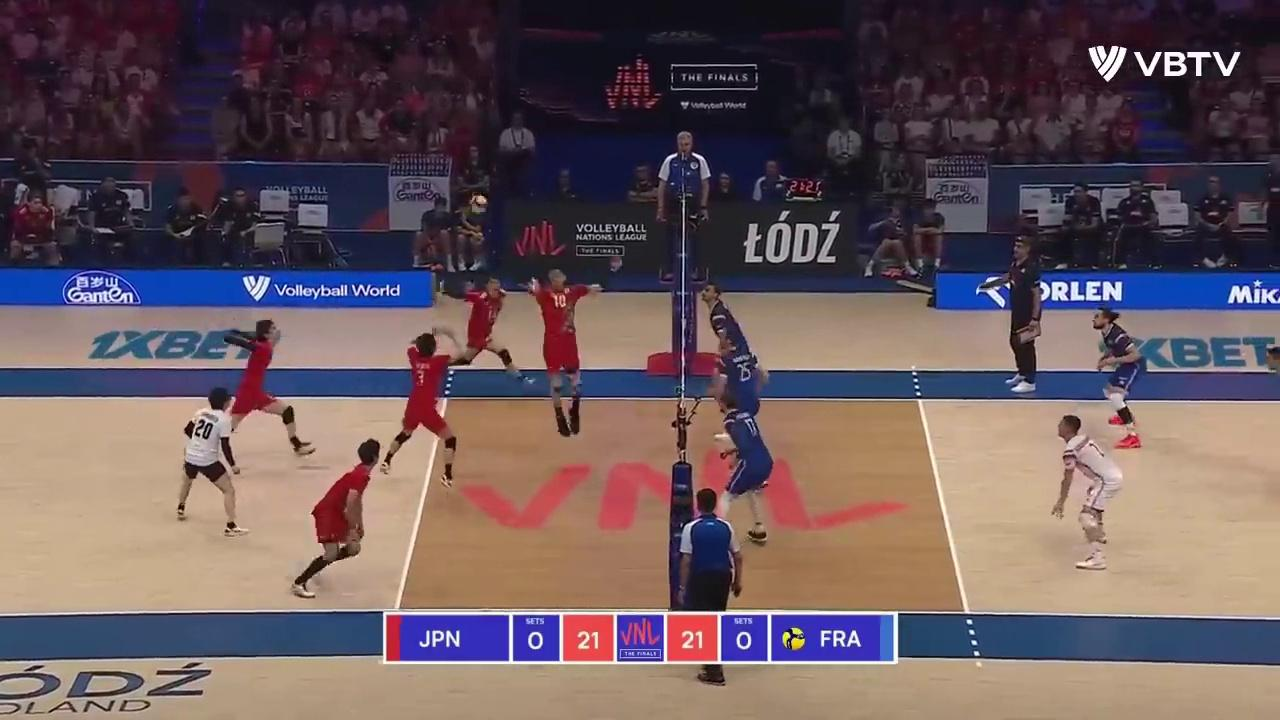ball: (472, 194, 487, 213)
